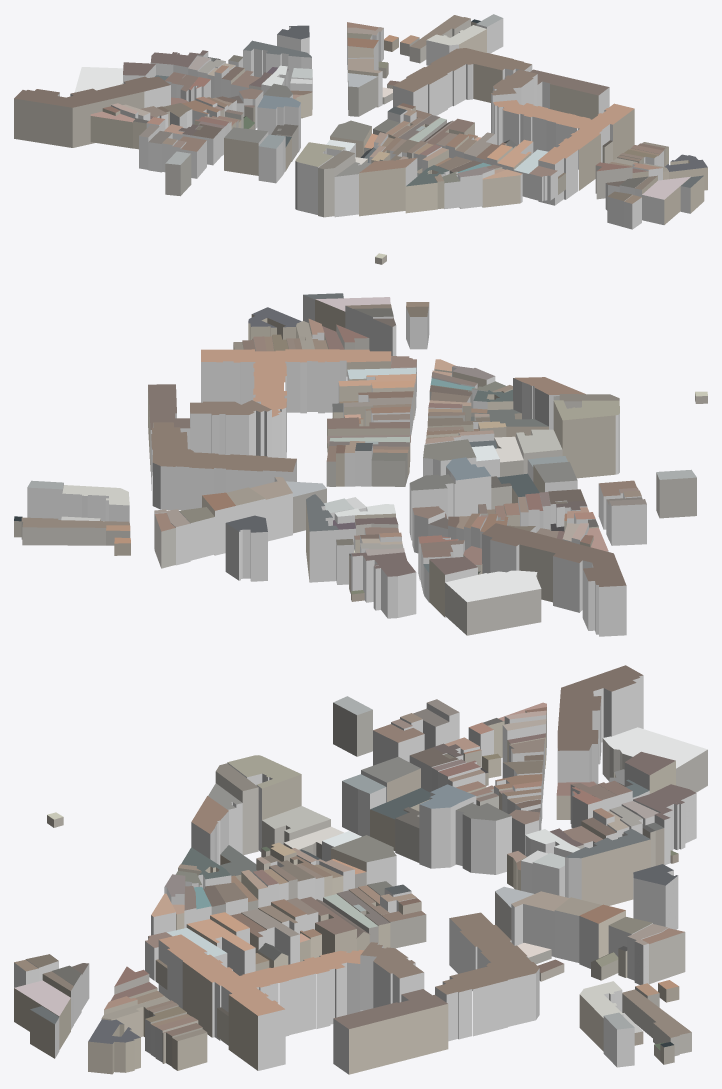
3 renders of one model, top to bottom at view 1: azimuth 30°, elevation 25°; view 2: azimuth 150°, elevation 25°; view 3: azimuth 270°, elevation 25°, orthographic. The views are drawn at different scales.
Parts seen in each view (by area): view 1: tuile; view 2: tuile; view 3: tuile.
Part boxes in pixels (left/top/right/bottom): tuile: left=14, top=14, right=707, bottom=264; tuile: left=14, top=293, right=707, bottom=636; tuile: left=14, top=665, right=707, bottom=1074.
Bounding box in the file's own units: 293 × 40.24 × 266.
